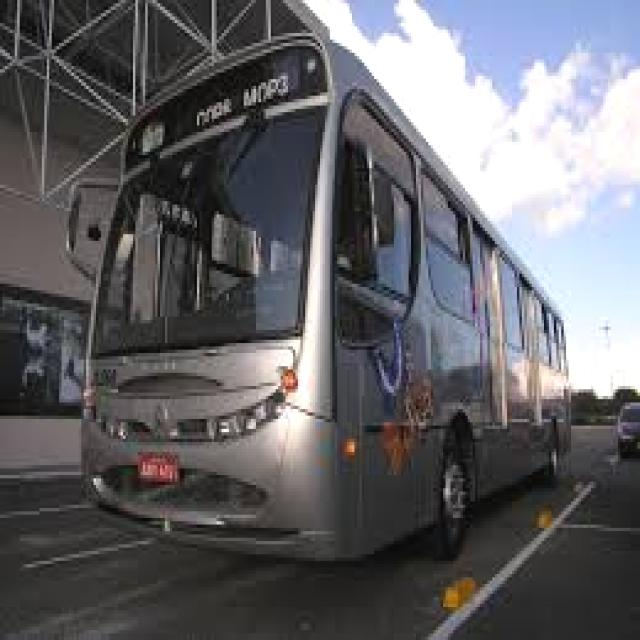BUS: (68, 8, 565, 571)
